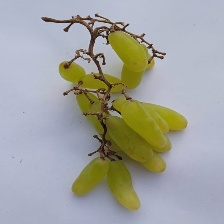grapes: (4, 37, 195, 224)
